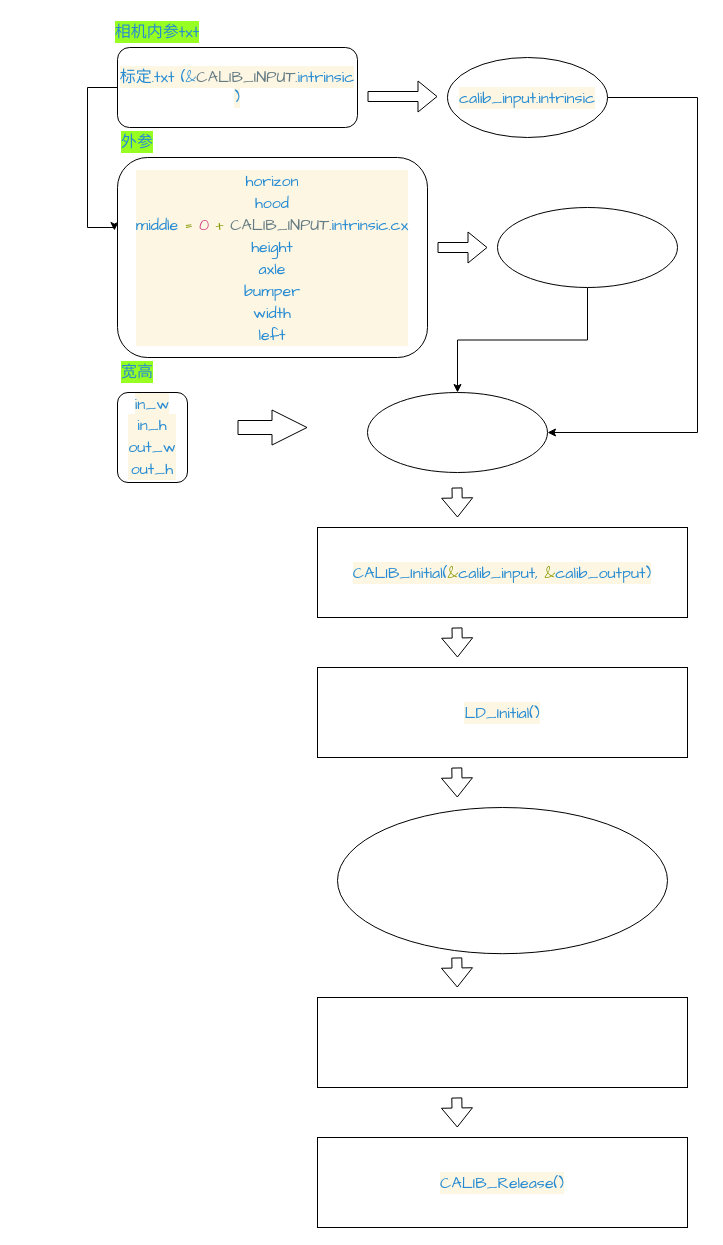
The diagram is 723 pixels wide and 1245 high, and some of its shapes have lost their labels. Here are the shapes that lost their labels. From the top down, the centre of each, then its label:
the point at 587,247: calib_input. extrinsic
the point at 457,432: calib_input
the point at 502,880: LD_Detect ()
the point at 502,1042: LD_Release()
